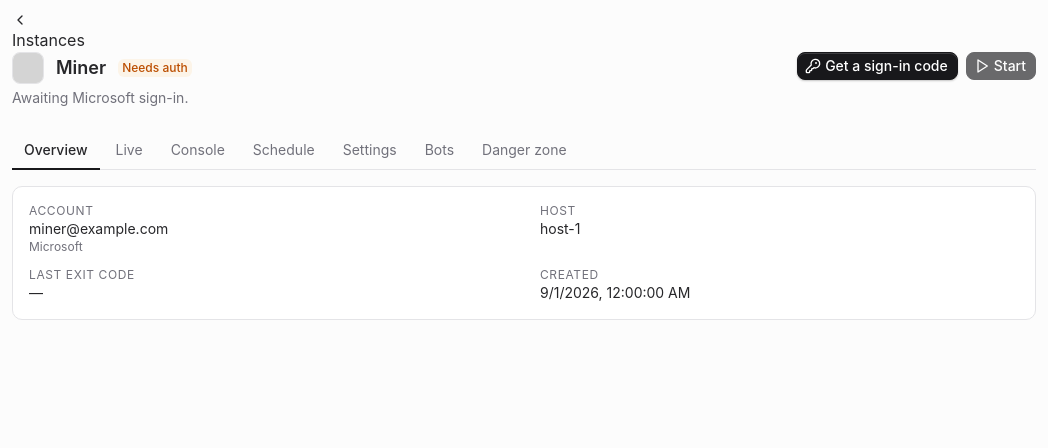
a Microsoft sign-in code › says how long the code stays valid
Expected: the tab "Overview" is shown, [12,132,100,170]
Step 1. Click the button "Get a sign-in code" → (877, 66), box [797,52,958,80]
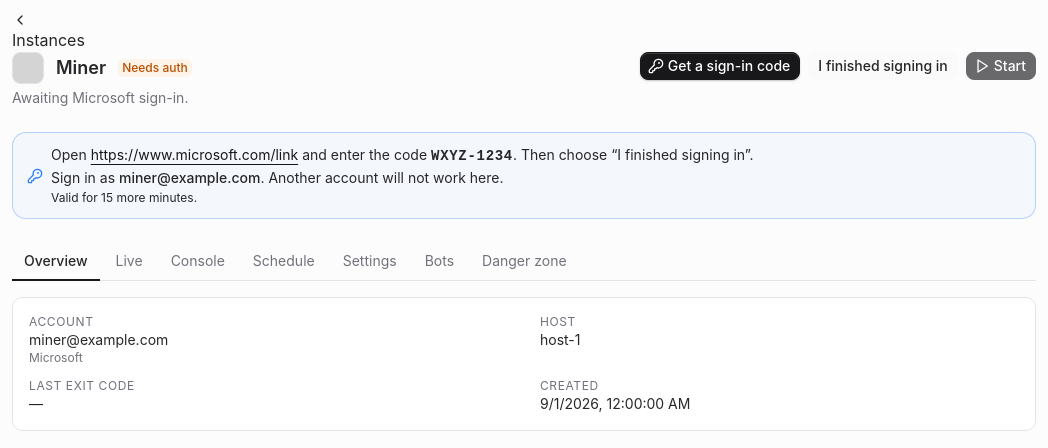
Result: the text "WXYZ-1234" is shown at [431,148,513,164]
Result: the text "Valid for 15 more minutes." is shown at [51,190,197,205]
